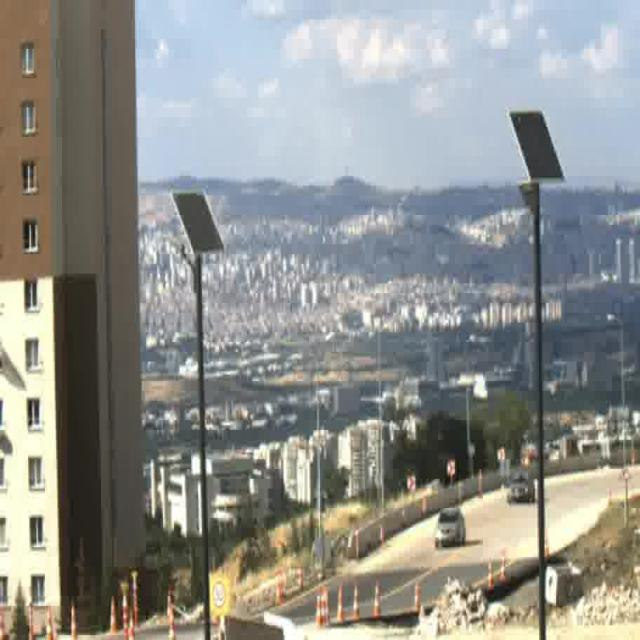Car: (433, 507, 466, 548), (506, 469, 536, 507)
